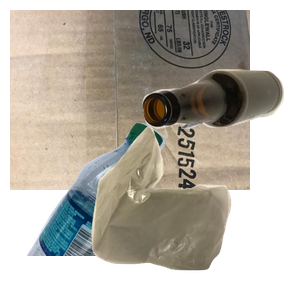cardboard: (10, 10, 250, 190)
glass: (140, 67, 300, 188)
plastic: (24, 120, 182, 300)
trash: (89, 124, 300, 300)
